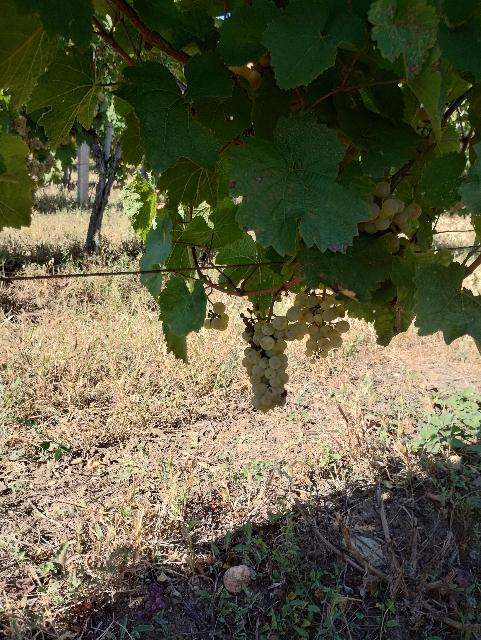grapes: (241, 314, 289, 412), (285, 291, 350, 362), (205, 301, 230, 331)
